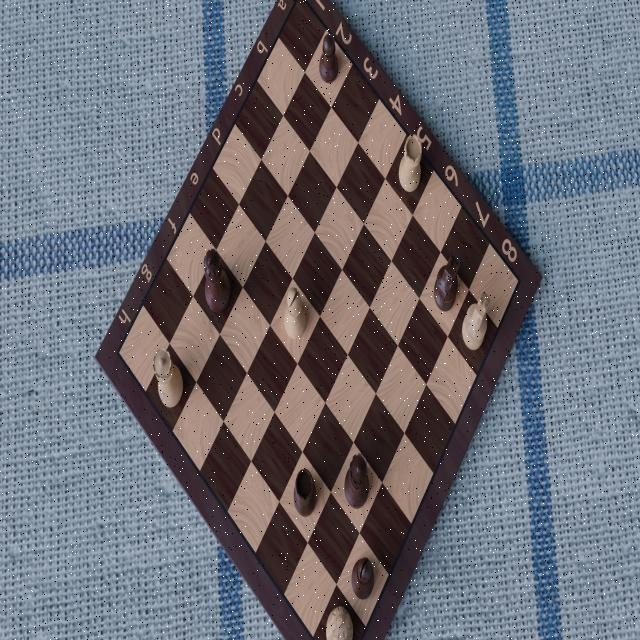black-bishop: (348, 550, 380, 610)
black-king: (199, 245, 238, 327)
black-knight: (430, 245, 462, 323)
black-pawn: (313, 31, 344, 93)
black-queen: (339, 451, 373, 513)
black-rook: (287, 454, 324, 533)
white-bishop: (278, 275, 312, 347)
white-king: (323, 591, 355, 640)
white-knight: (459, 286, 490, 357)
white-queen: (148, 344, 187, 424)
white-rook: (394, 128, 430, 202)
